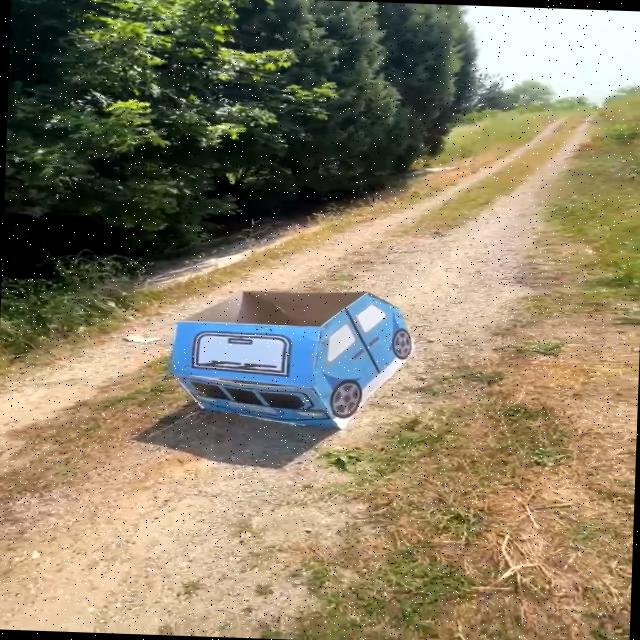blue_car: (144, 271, 436, 452)
